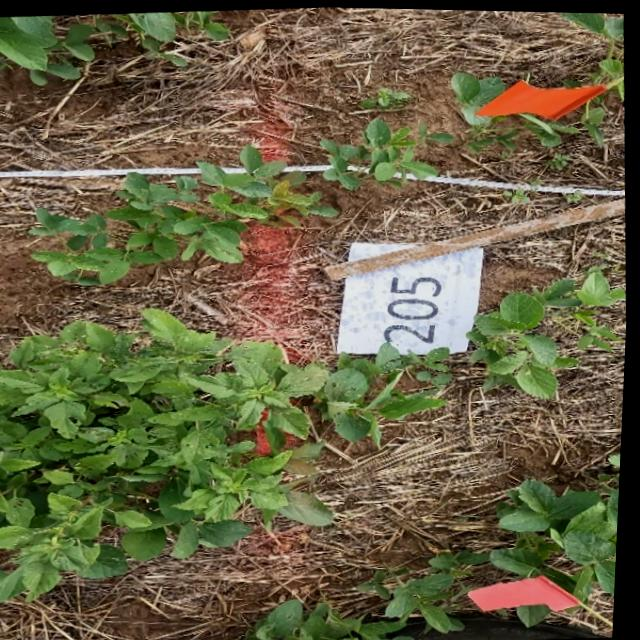caruru_weed: (0, 307, 436, 602)
soy_plant: (252, 471, 624, 640), (36, 144, 337, 283), (470, 264, 628, 395), (0, 9, 228, 84), (323, 116, 454, 187), (452, 69, 520, 148), (564, 10, 625, 85), (525, 111, 578, 143)
